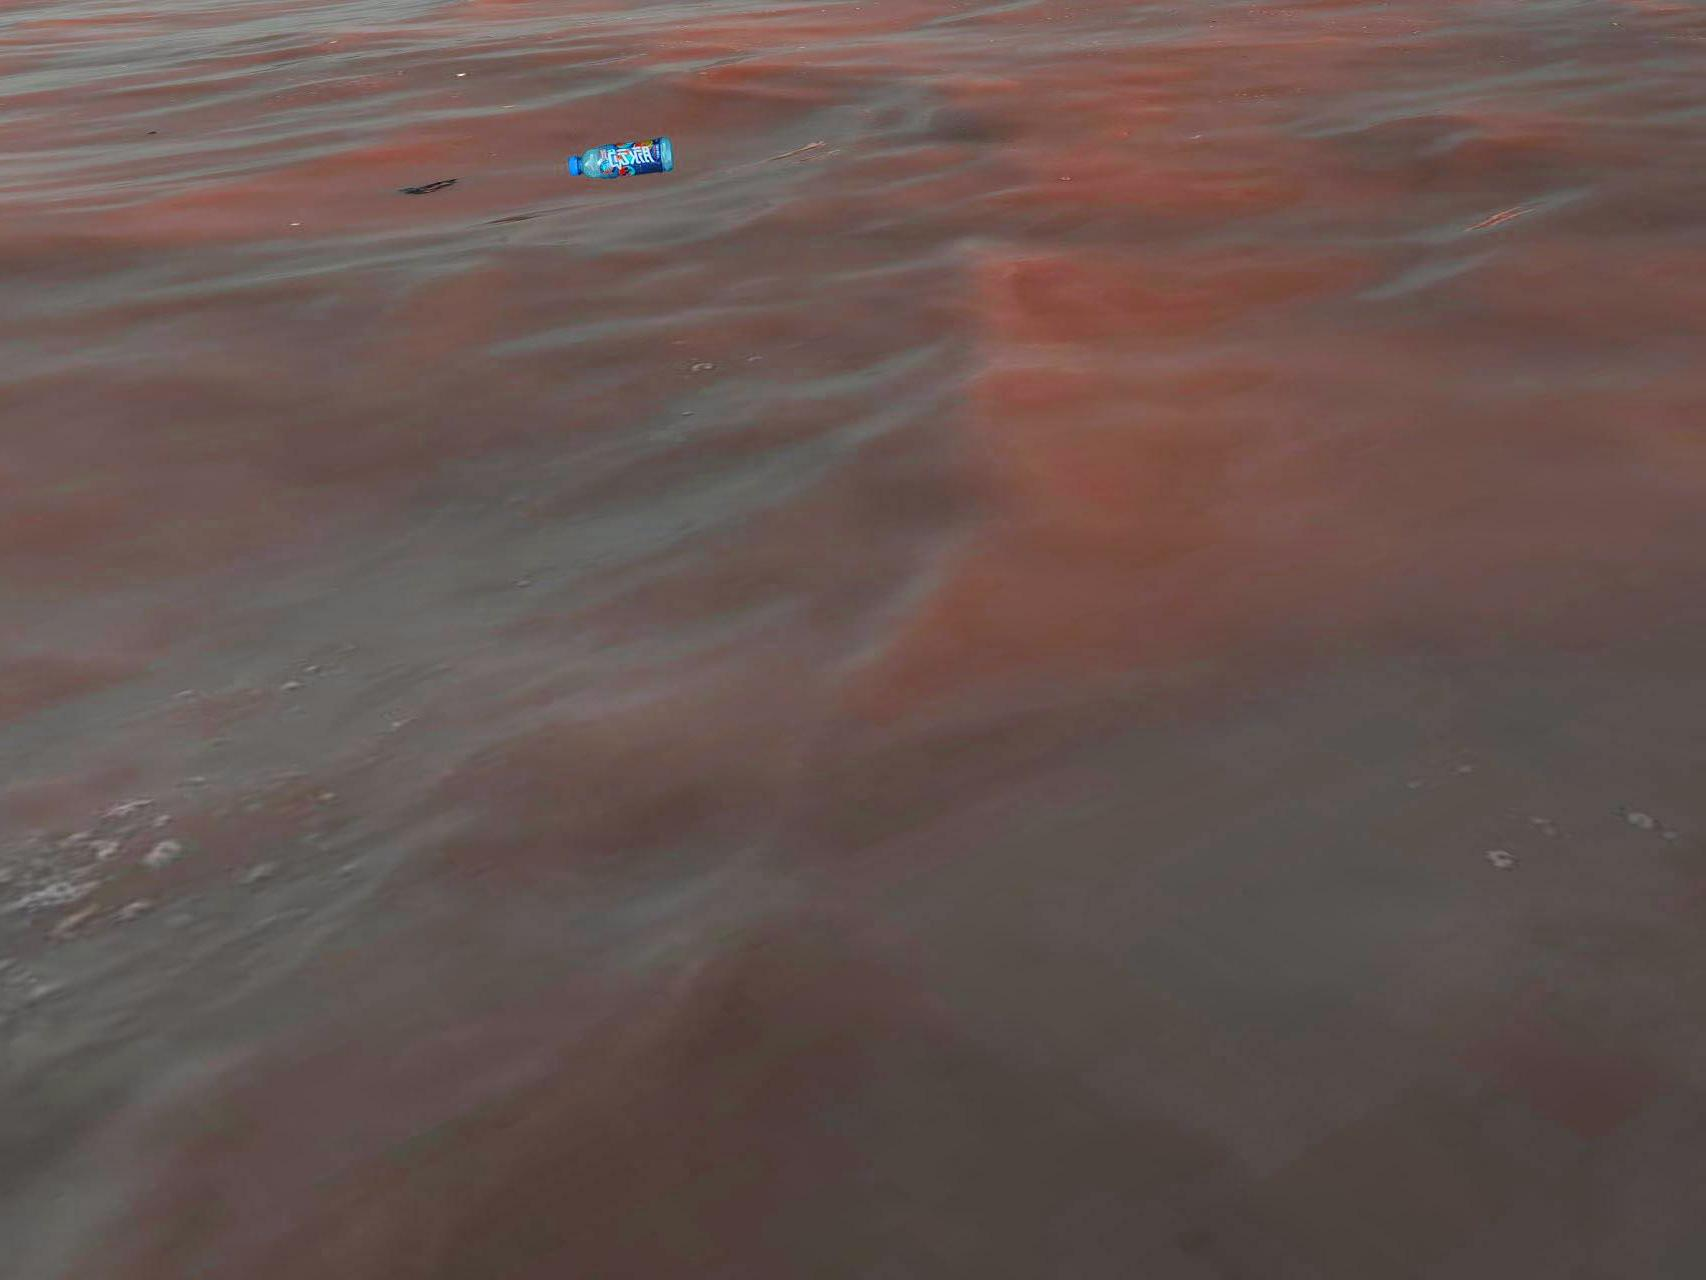Plastic: (567, 140, 668, 182)
